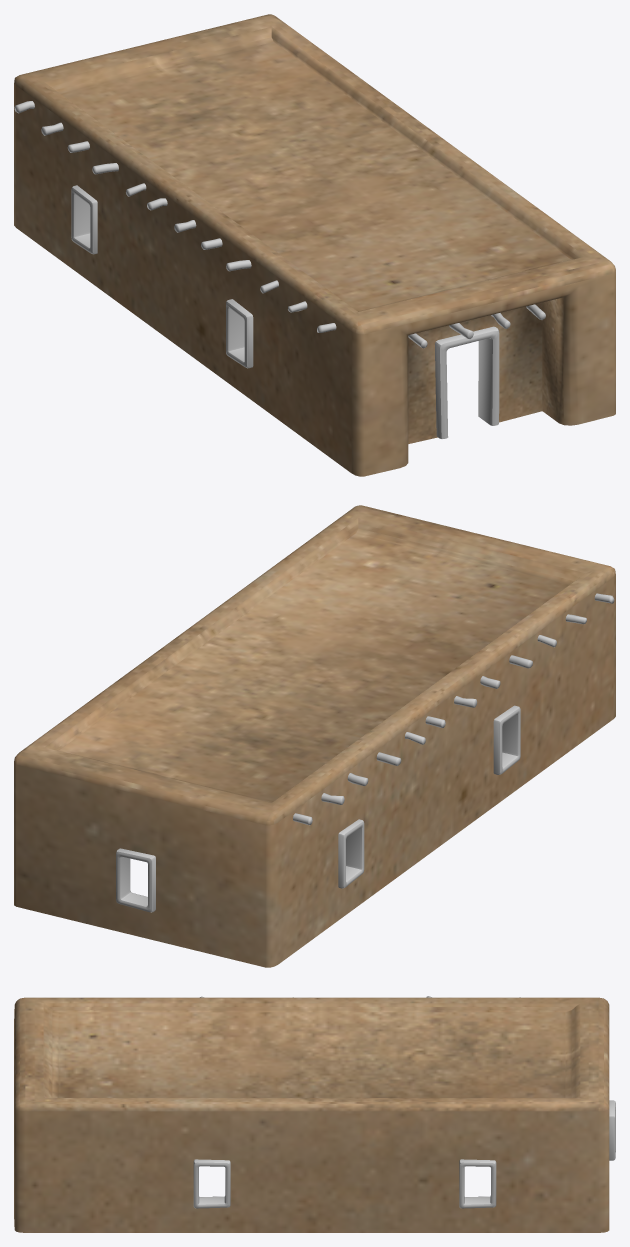
The model's file is Type1_4.fbx.
3 renders of one model, top to bottom at view 1: azimuth 30°, elevation 25°; view 2: azimuth 150°, elevation 25°; view 3: azimuth 270°, elevation 25°, orthographic. The views are drawn at different scales.
Visible parts, largest first — view 1: MAINWALL.003, WOODENPARTS.013, WOODENPARTS.003; view 2: MAINWALL.003, WOODENPARTS.013, WOODENPARTS.003; view 3: MAINWALL.003, WOODENPARTS.013.
Part boxes in pixels (<box>): MAINWALL.003: <box>14,14,615,476</box>; WOODENPARTS.013: <box>71,185,545,438</box>; WOODENPARTS.003: <box>14,101,336,332</box>; MAINWALL.003: <box>14,505,615,967</box>; WOODENPARTS.013: <box>116,705,520,912</box>; WOODENPARTS.003: <box>293,593,614,825</box>; MAINWALL.003: <box>14,997,609,1232</box>; WOODENPARTS.013: <box>193,1100,615,1208</box>.
Bounding box in the file's own units: 788 × 390 × 1652.
